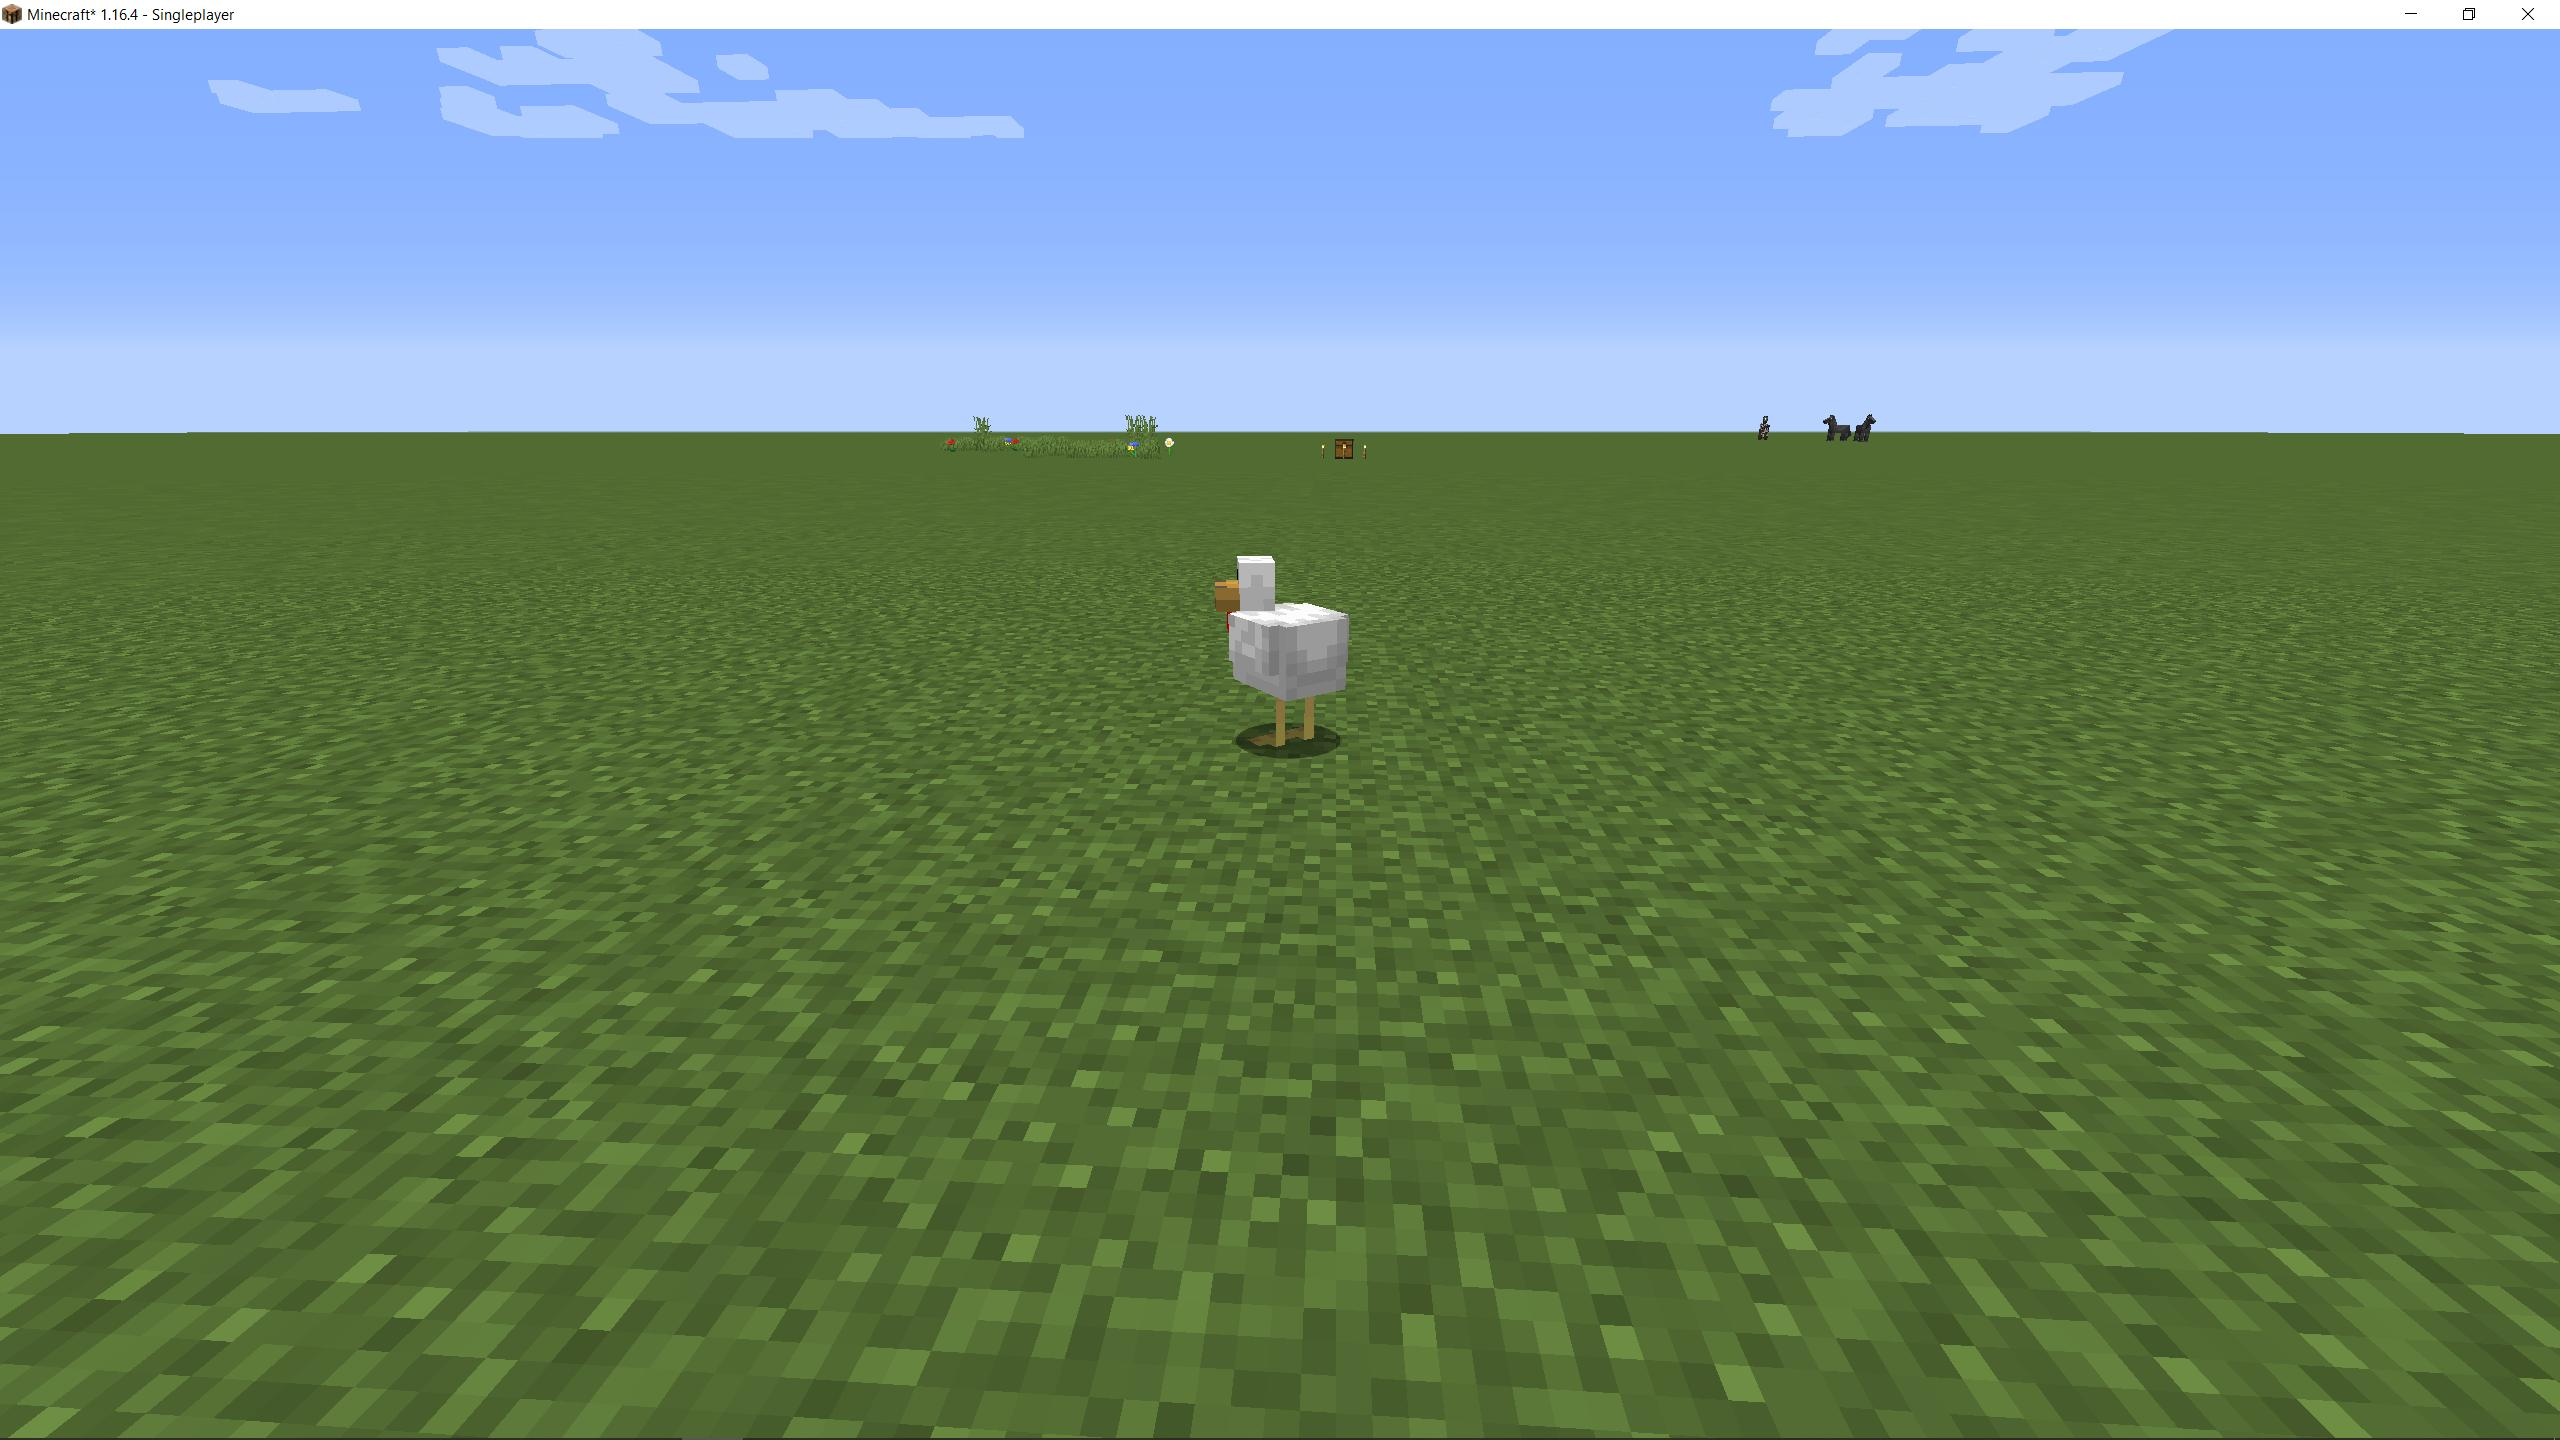chicken: (1206, 552, 1350, 758)
